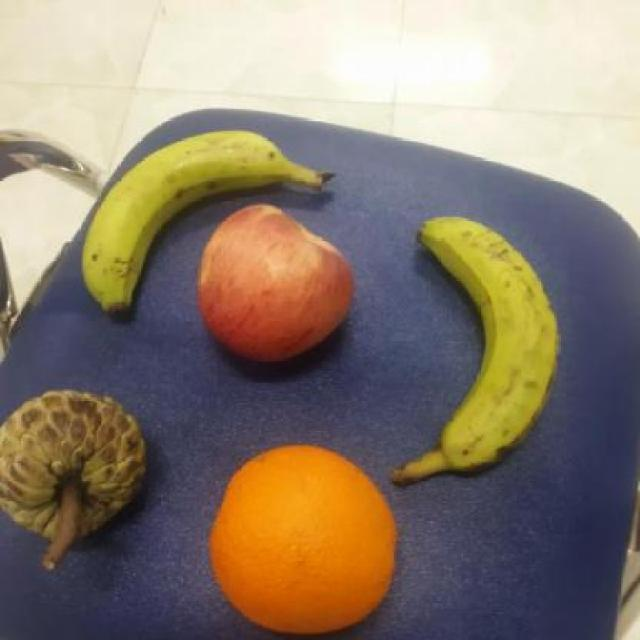apple: (194, 202, 358, 369)
banana: (79, 126, 290, 317), (413, 213, 567, 473)
oren: (210, 445, 404, 634)
sugar apple: (1, 386, 150, 540)
